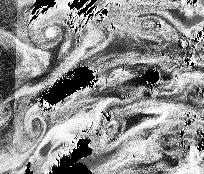CE: (35, 19, 70, 46), (25, 115, 47, 141), (137, 13, 162, 35)
